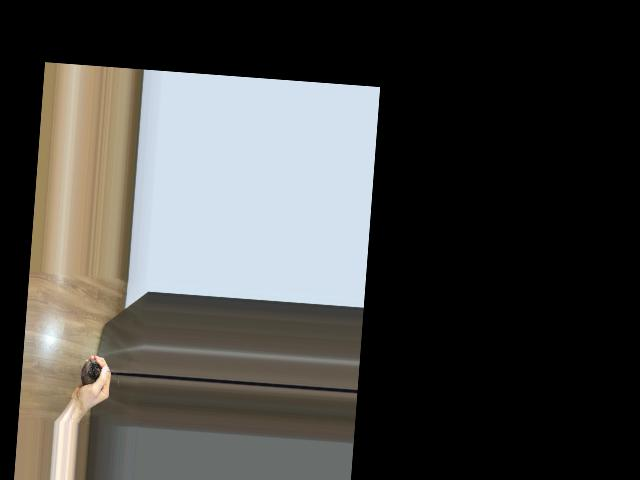beet: (80, 357, 121, 388)
